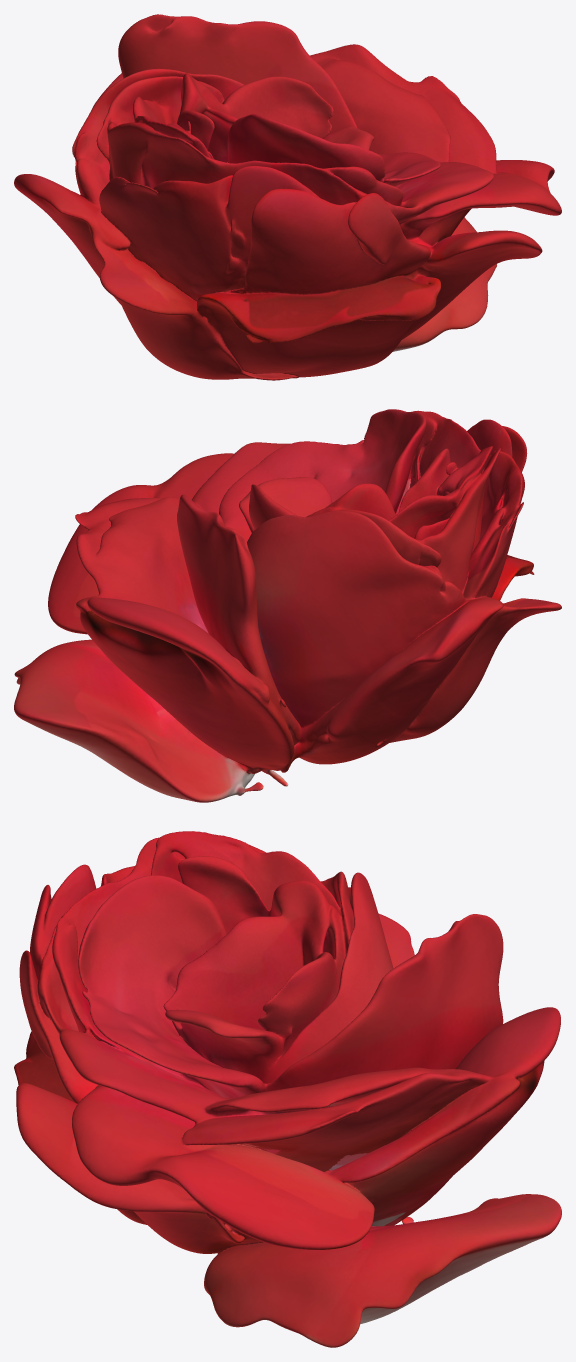
The model's file is rose.glb.
3 renders of one model, top to bottom at view 1: azimuth 30°, elevation 25°; view 2: azimuth 150°, elevation 25°; view 3: azimuth 270°, elevation 25°, orthographic. The views are drawn at different scales.
Visible parts, largest first — view 1: tripo_node_7257a228-bdd2-4fea-98f7-8fff2c4f3c68; view 2: tripo_node_7257a228-bdd2-4fea-98f7-8fff2c4f3c68; view 3: tripo_node_7257a228-bdd2-4fea-98f7-8fff2c4f3c68.
Part boxes in pixels (x1=…): tripo_node_7257a228-bdd2-4fea-98f7-8fff2c4f3c68: x1=14, y1=14, x2=561, y2=380; tripo_node_7257a228-bdd2-4fea-98f7-8fff2c4f3c68: x1=14, y1=409, x2=561, y2=802; tripo_node_7257a228-bdd2-4fea-98f7-8fff2c4f3c68: x1=14, y1=831, x2=561, y2=1347.
Bounding box in the file's own units: 1 × 0.6765 × 0.9319.
1 material, 1 textured.
